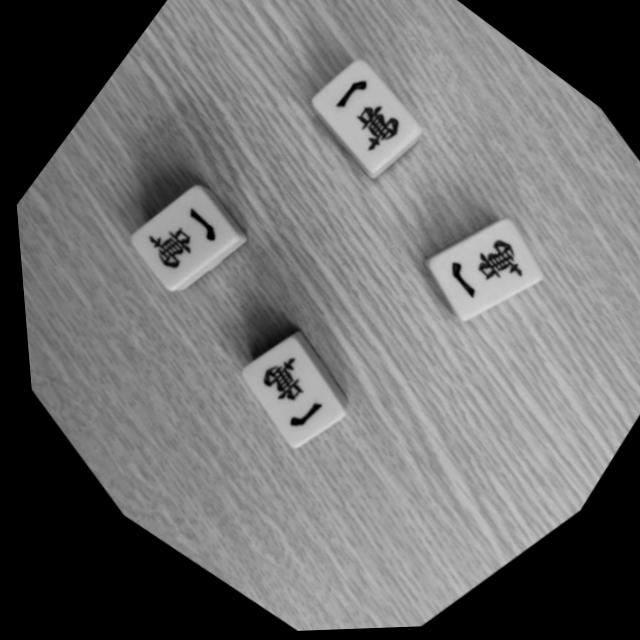sc1: (408, 206, 561, 356), (297, 57, 440, 192), (214, 333, 356, 467), (113, 177, 247, 308)
